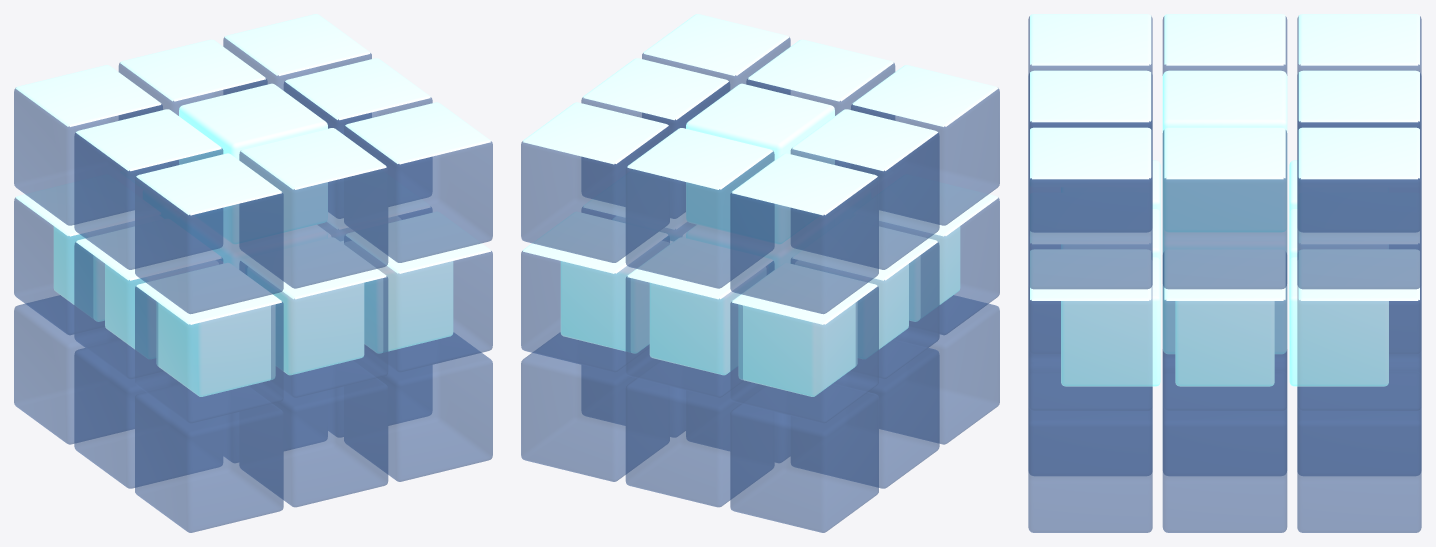
Rendered from hero_cube_cluster.glb.
3 renders of one model, left to right at view 1: azimuth 30°, elevation 25°; view 2: azimuth 150°, elevation 25°; view 3: azimuth 270°, elevation 25°, orthographic. The views are drawn at different scales.
Visible parts, largest first — view 1: Cube_03, Cube_02, Cube_12, Cube_01, Cube_21, Cube_10, Cube_19, Cube_06, Cube_11, Cube_20, Cube_09, Cube_04 (+17 smaller); view 2: Cube_09, Cube_08, Cube_18, Cube_07, Cube_27, Cube_16, Cube_25, Cube_06, Cube_17, Cube_26, Cube_03, Cube_04 (+17 smaller); view 3: Cube_24, Cube_23, Cube_21, Cube_27, Cube_20, Cube_26, Cube_19, Cube_25, Cube_22, Cube_12, Cube_18, Cube_15 (+18 smaller).
Boxes of the visible parts, box(x1,y1,x2,y2) form: Cube_03: box(135, 153, 283, 313); Cube_02: box(135, 263, 283, 423); Cube_12: box(239, 128, 388, 288); Cube_01: box(135, 384, 283, 532); Cube_21: box(344, 102, 492, 262); Cube_10: box(239, 360, 388, 507); Cube_19: box(344, 333, 492, 481); Cube_06: box(74, 109, 223, 269); Cube_11: box(239, 237, 388, 397); Cube_20: box(344, 212, 492, 372); Cube_09: box(14, 65, 162, 225); Cube_04: box(74, 339, 222, 488); Cube_09: box(730, 153, 878, 313); Cube_08: box(730, 263, 878, 423); Cube_18: box(625, 128, 774, 288); Cube_07: box(730, 384, 878, 532); Cube_27: box(521, 102, 669, 262); Cube_16: box(625, 360, 774, 507); Cube_25: box(521, 333, 669, 481); Cube_06: box(790, 109, 939, 269); Cube_17: box(625, 237, 774, 397); Cube_26: box(521, 212, 669, 372); Cube_03: box(851, 65, 999, 225); Cube_04: box(791, 339, 939, 488); Cube_24: box(1162, 127, 1287, 289); Cube_23: box(1162, 249, 1287, 411); Cube_21: box(1028, 127, 1152, 289); Cube_27: box(1297, 127, 1421, 289); Cube_20: box(1028, 249, 1152, 411); Cube_26: box(1297, 249, 1421, 411); Cube_19: box(1028, 371, 1152, 532); Cube_25: box(1297, 371, 1421, 532); Cube_22: box(1162, 371, 1287, 532); Cube_12: box(1028, 70, 1152, 232); Cube_18: box(1297, 70, 1421, 232); Cube_15: box(1162, 70, 1287, 232).
Size of the model in its own units: 3.16 by 3.16 by 3.16.
